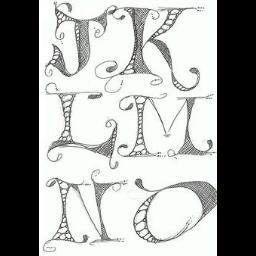m: (122, 86, 218, 166)
